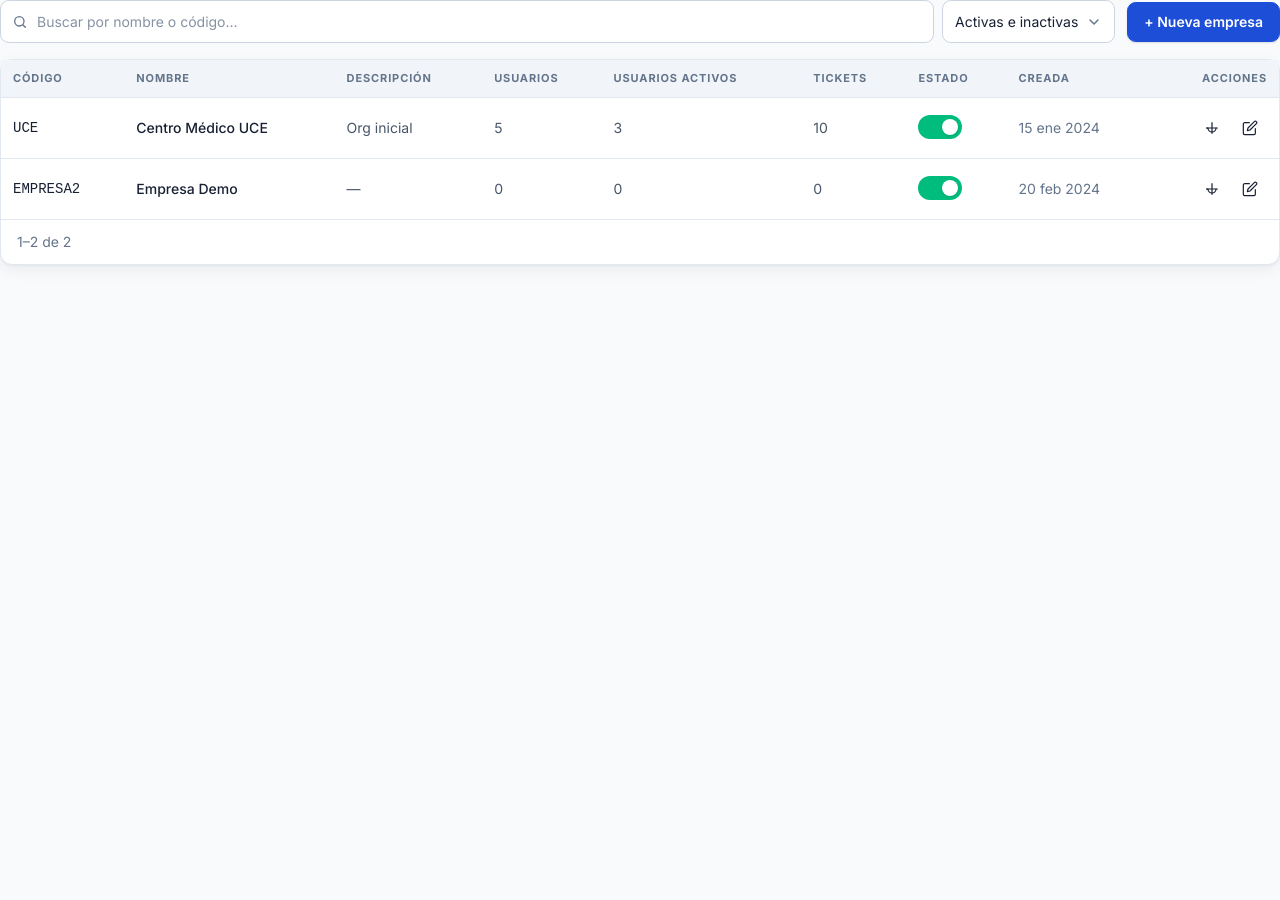
Test: Organizations Page · Crear administrador (SUPERADMIN) › abre modal "Crear administrador" al hacer clic en el botón
Check: the text "UCE" is shown, box [1, 97, 124, 158]
Note: Hacer clic en el primer botón "Crear administrador" (para UCE)
Click the button named "Crear administrador para Centro Médico UCE" at (1212, 128), box [1195, 108, 1229, 148]
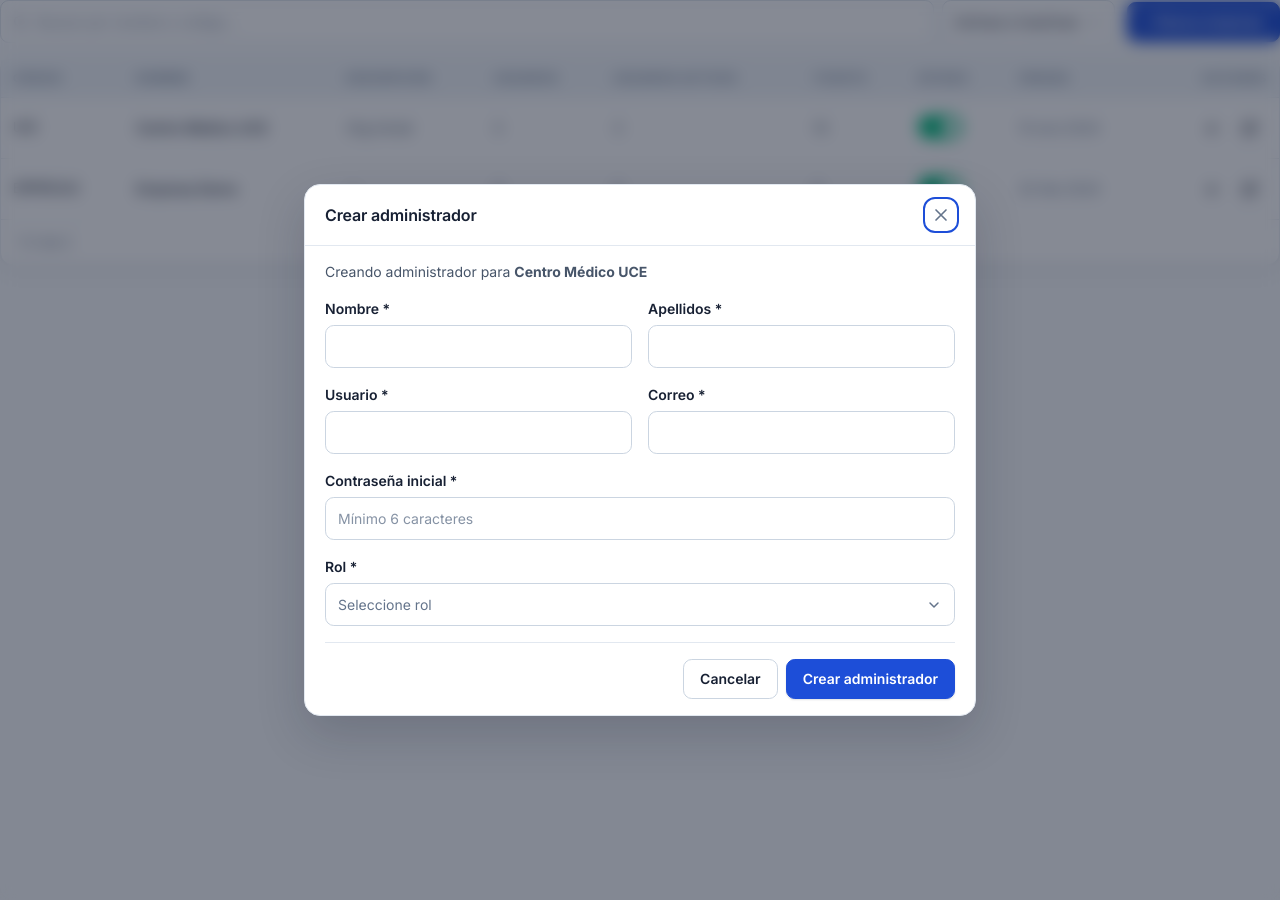
Check: the dialog "Crear administrador" is shown, box [304, 184, 976, 716]
Check: the dialog "Crear administrador" shows "Creando administrador para", box [325, 263, 514, 280]
Check: the dialog "Crear administrador" shows "Centro Médico UCE", box [514, 263, 647, 280]
